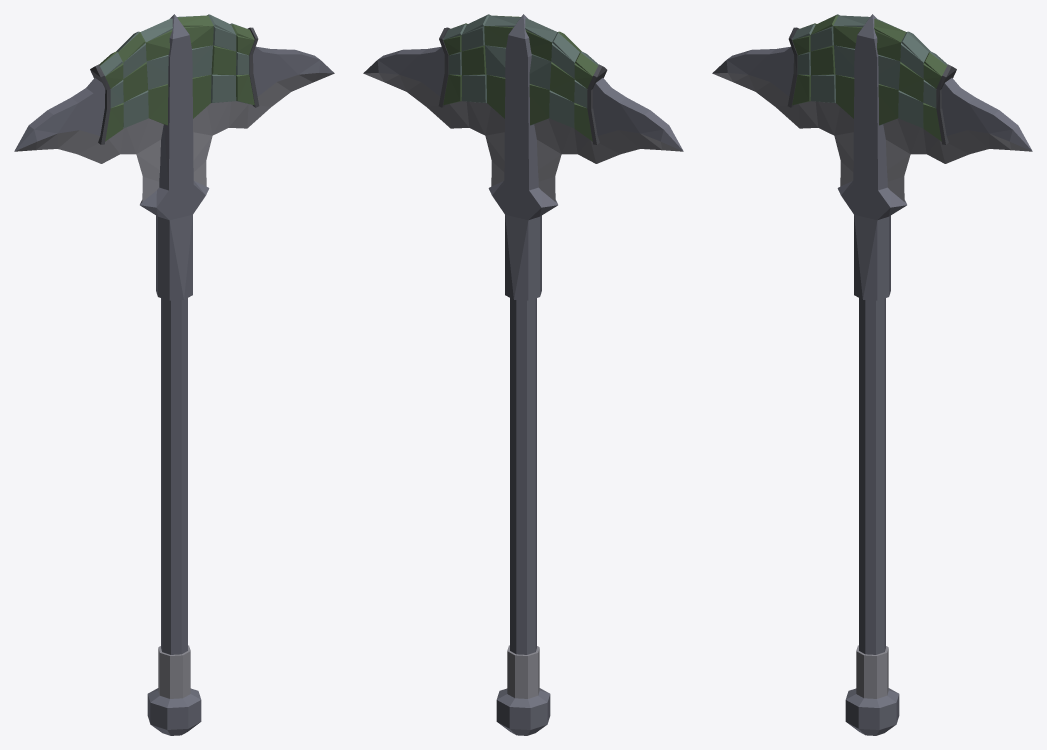
Rendered from _hammer_08.fbx.
3 views of the same model, side by side, from view 1: azimuth 30°, elevation 25°; view 2: azimuth 150°, elevation 25°; view 3: azimuth 330°, elevation 25° (orthographic).
Visible parts, largest first — view 1: hammer_08; view 2: hammer_08; view 3: hammer_08.
Boxes of the visible parts, left/top/right/bottom form: hammer_08: left=14, top=14, right=334, bottom=735; hammer_08: left=363, top=14, right=683, bottom=735; hammer_08: left=712, top=14, right=1032, bottom=735.
Bounding box in the file's own units: 40.04 × 85.4 × 6.
